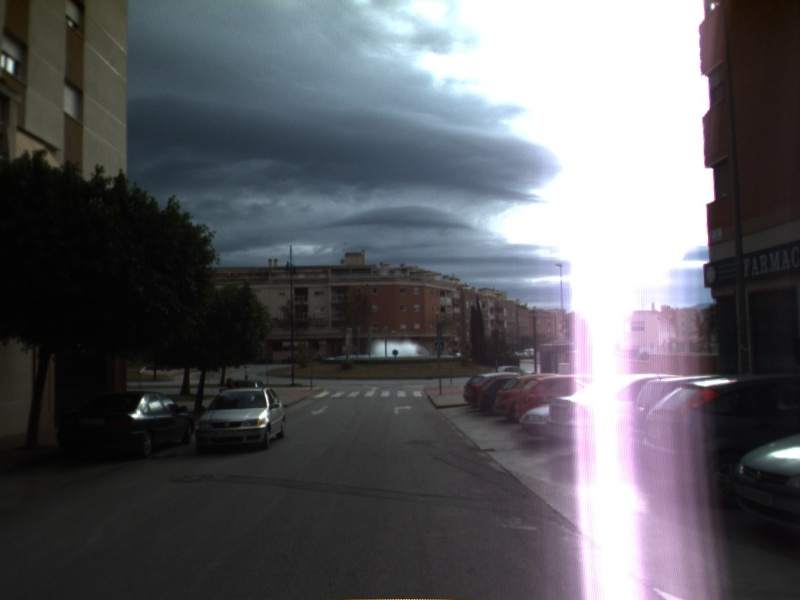RIGHT: (392, 403, 415, 416)
